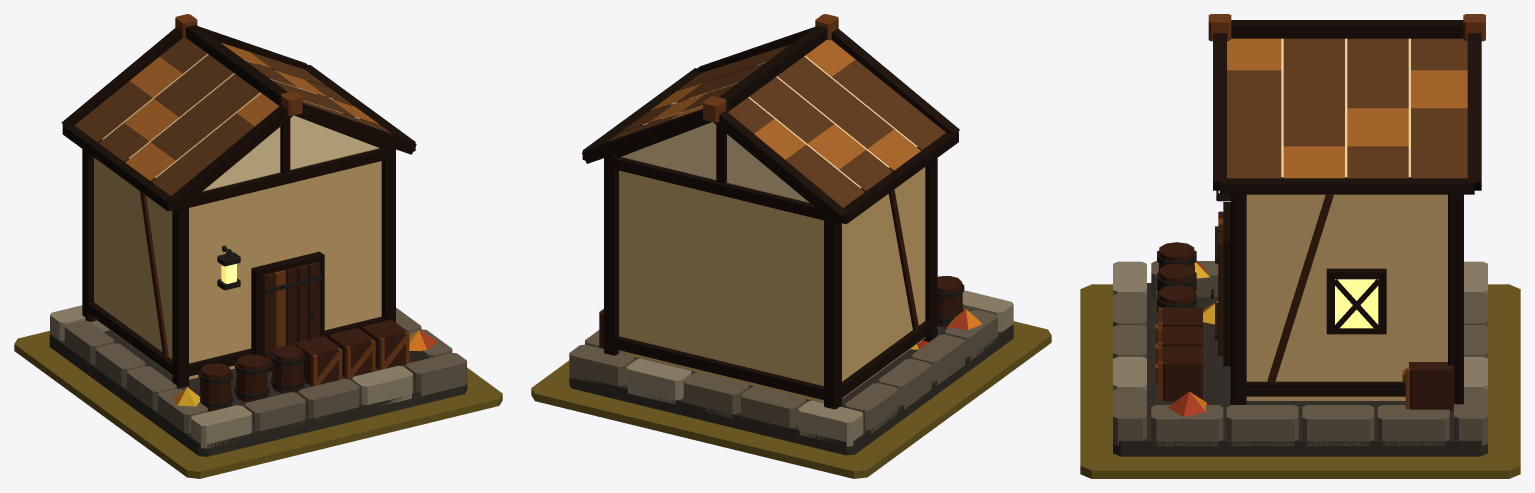
File: storehouse_t4.glb
3 renders of one model, left to right at view 1: azimuth 30°, elevation 25°; view 2: azimuth 150°, elevation 25°; view 3: azimuth 270°, elevation 25°, orthographic. The views are drawn at different scales.
Parts seen in each view (by area): view 1: MMR | storehouse | T04 Architecture.001, MMR | storehouse | Tier 04 Ground.001, MMR | storehouse | T04 Autumn Dressing.001; view 2: MMR | storehouse | T04 Architecture.001, MMR | storehouse | Tier 04 Ground.001; view 3: MMR | storehouse | T04 Architecture.001, MMR | storehouse | Tier 04 Ground.001, MMR | storehouse | T04 Autumn Dressing.001.
Boxes of the visible parts, left/top/right/bottom form: MMR | storehouse | T04 Architecture.001: left=49, top=14, right=467, bottom=456; MMR | storehouse | Tier 04 Ground.001: left=14, top=331, right=502, bottom=478; MMR | storehouse | T04 Autumn Dressing.001: left=173, top=330, right=436, bottom=406; MMR | storehouse | T04 Architecture.001: left=569, top=14, right=1013, bottom=455; MMR | storehouse | Tier 04 Ground.001: left=531, top=321, right=1051, bottom=478; MMR | storehouse | T04 Architecture.001: left=1113, top=14, right=1487, bottom=456; MMR | storehouse | Tier 04 Ground.001: left=1080, top=284, right=1520, bottom=478; MMR | storehouse | T04 Autumn Dressing.001: left=1168, top=261, right=1218, bottom=416.
Bounding box in the file's own units: 2.35 × 2.17 × 2.35.
Materials: 2 (1 with a texture image).
